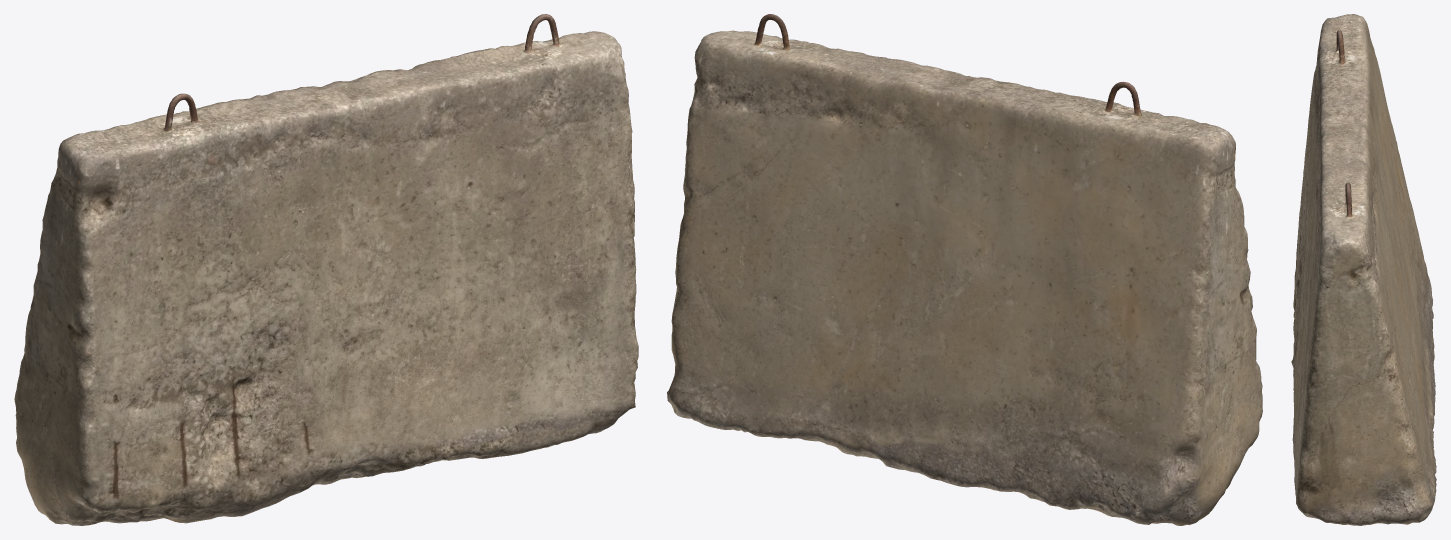
Rendered from concrete_road_barrier_02-1k.glb.
The picture shows the model from 3 angles, left to right: view 1: azimuth 30°, elevation 25°; view 2: azimuth 150°, elevation 25°; view 3: azimuth 270°, elevation 25°; orthographic projection. The views are drawn at different scales.
Parts seen in each view (by area): view 1: concrete_road_barrier_02; view 2: concrete_road_barrier_02; view 3: concrete_road_barrier_02.
Part boxes in pixels (x1=…): concrete_road_barrier_02: x1=14, y1=14, x2=638, y2=525; concrete_road_barrier_02: x1=667, y1=14, x2=1262, y2=525; concrete_road_barrier_02: x1=1291, y1=14, x2=1436, y2=525.
Bounding box in the file's own units: 1.57 × 1.11 × 0.4421.
Materials: 1 (1 with a texture image).
